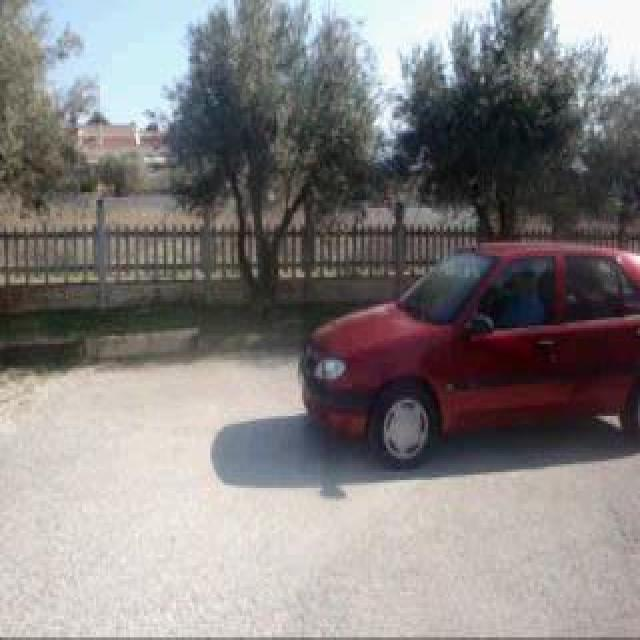other: (292, 212, 631, 461)
